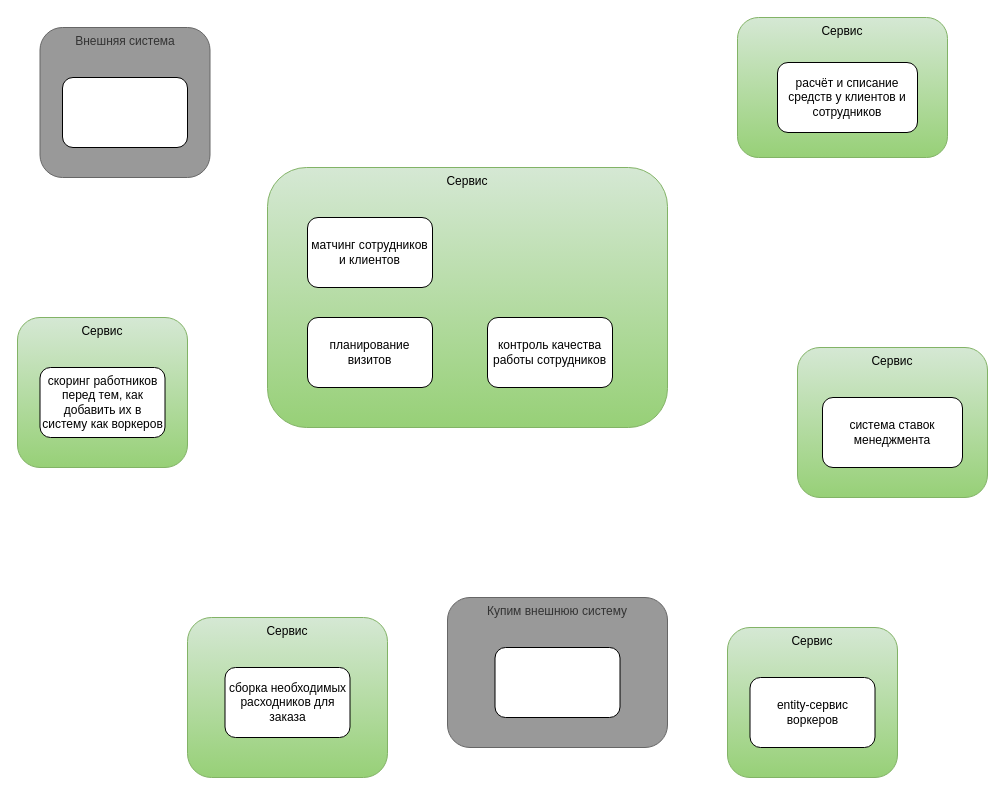
Image size: 1005x795. Some labels were removed from this diagram. Here are the shapes that lost their labels. From the top down, the centre of each, then its label:
At (125,112): "happy cat box".
At (557,682): "производство Fur-tune печенья".
